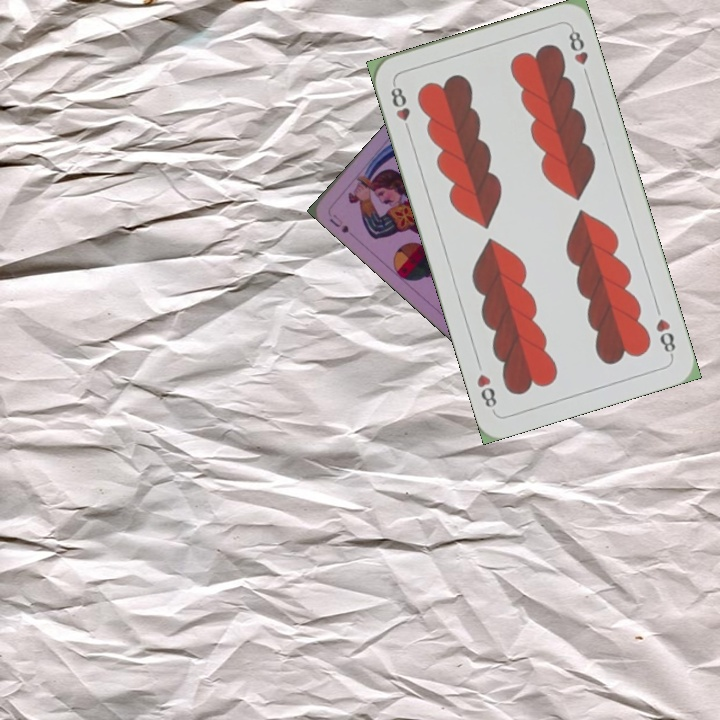H8: (386, 79, 414, 137), (652, 314, 678, 359)
SU: (325, 210, 351, 236)
